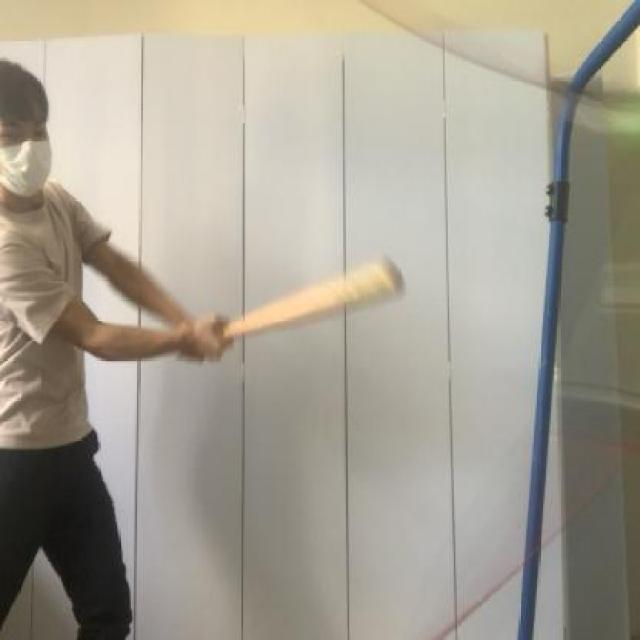baseball: (606, 98, 640, 150)
